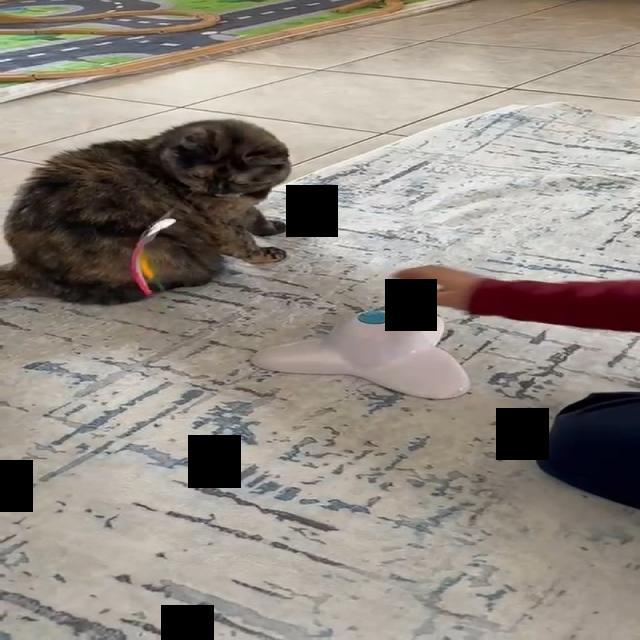authorized: (0, 117, 291, 306)
